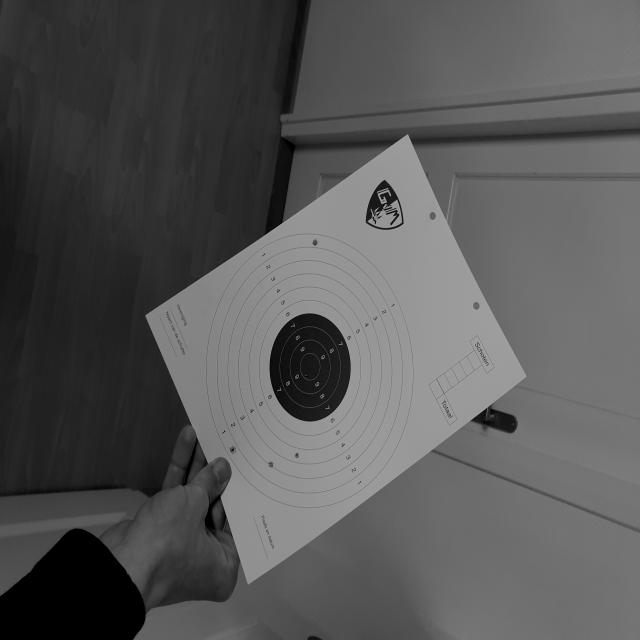1: (228, 444, 237, 456), (312, 238, 318, 247)
10: (304, 372, 309, 378)
3: (267, 460, 275, 470)
4: (294, 452, 300, 460)
Target: (205, 234, 414, 510)
black_contour: (269, 313, 351, 422)
